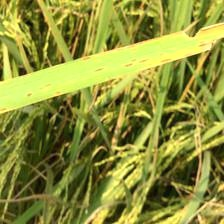Bacterial_Leaf_Blight: (121, 53, 149, 68), (158, 53, 176, 64), (198, 39, 212, 49), (92, 66, 108, 73), (24, 90, 35, 99), (0, 105, 11, 114), (52, 89, 64, 97), (80, 54, 91, 62)
